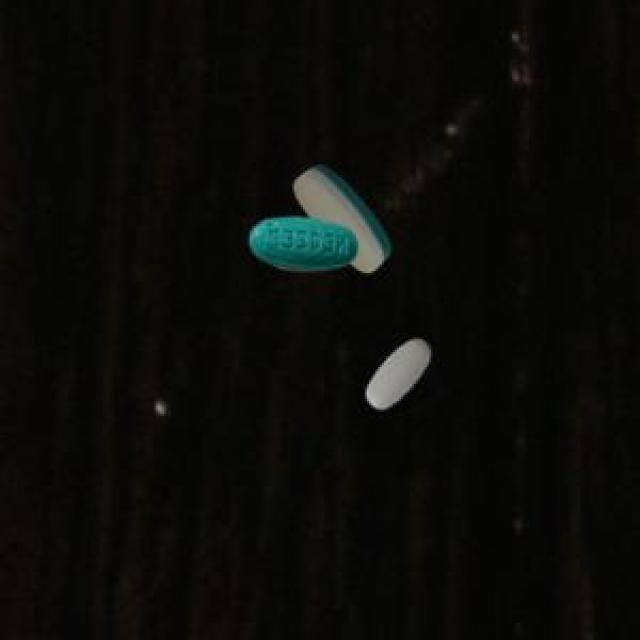Neozep: (231, 150, 398, 297), (351, 323, 442, 422)
